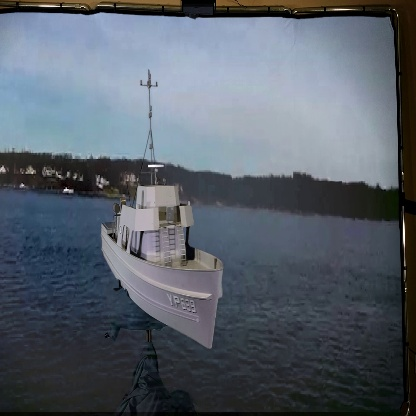YP689: (100, 70, 227, 350)
